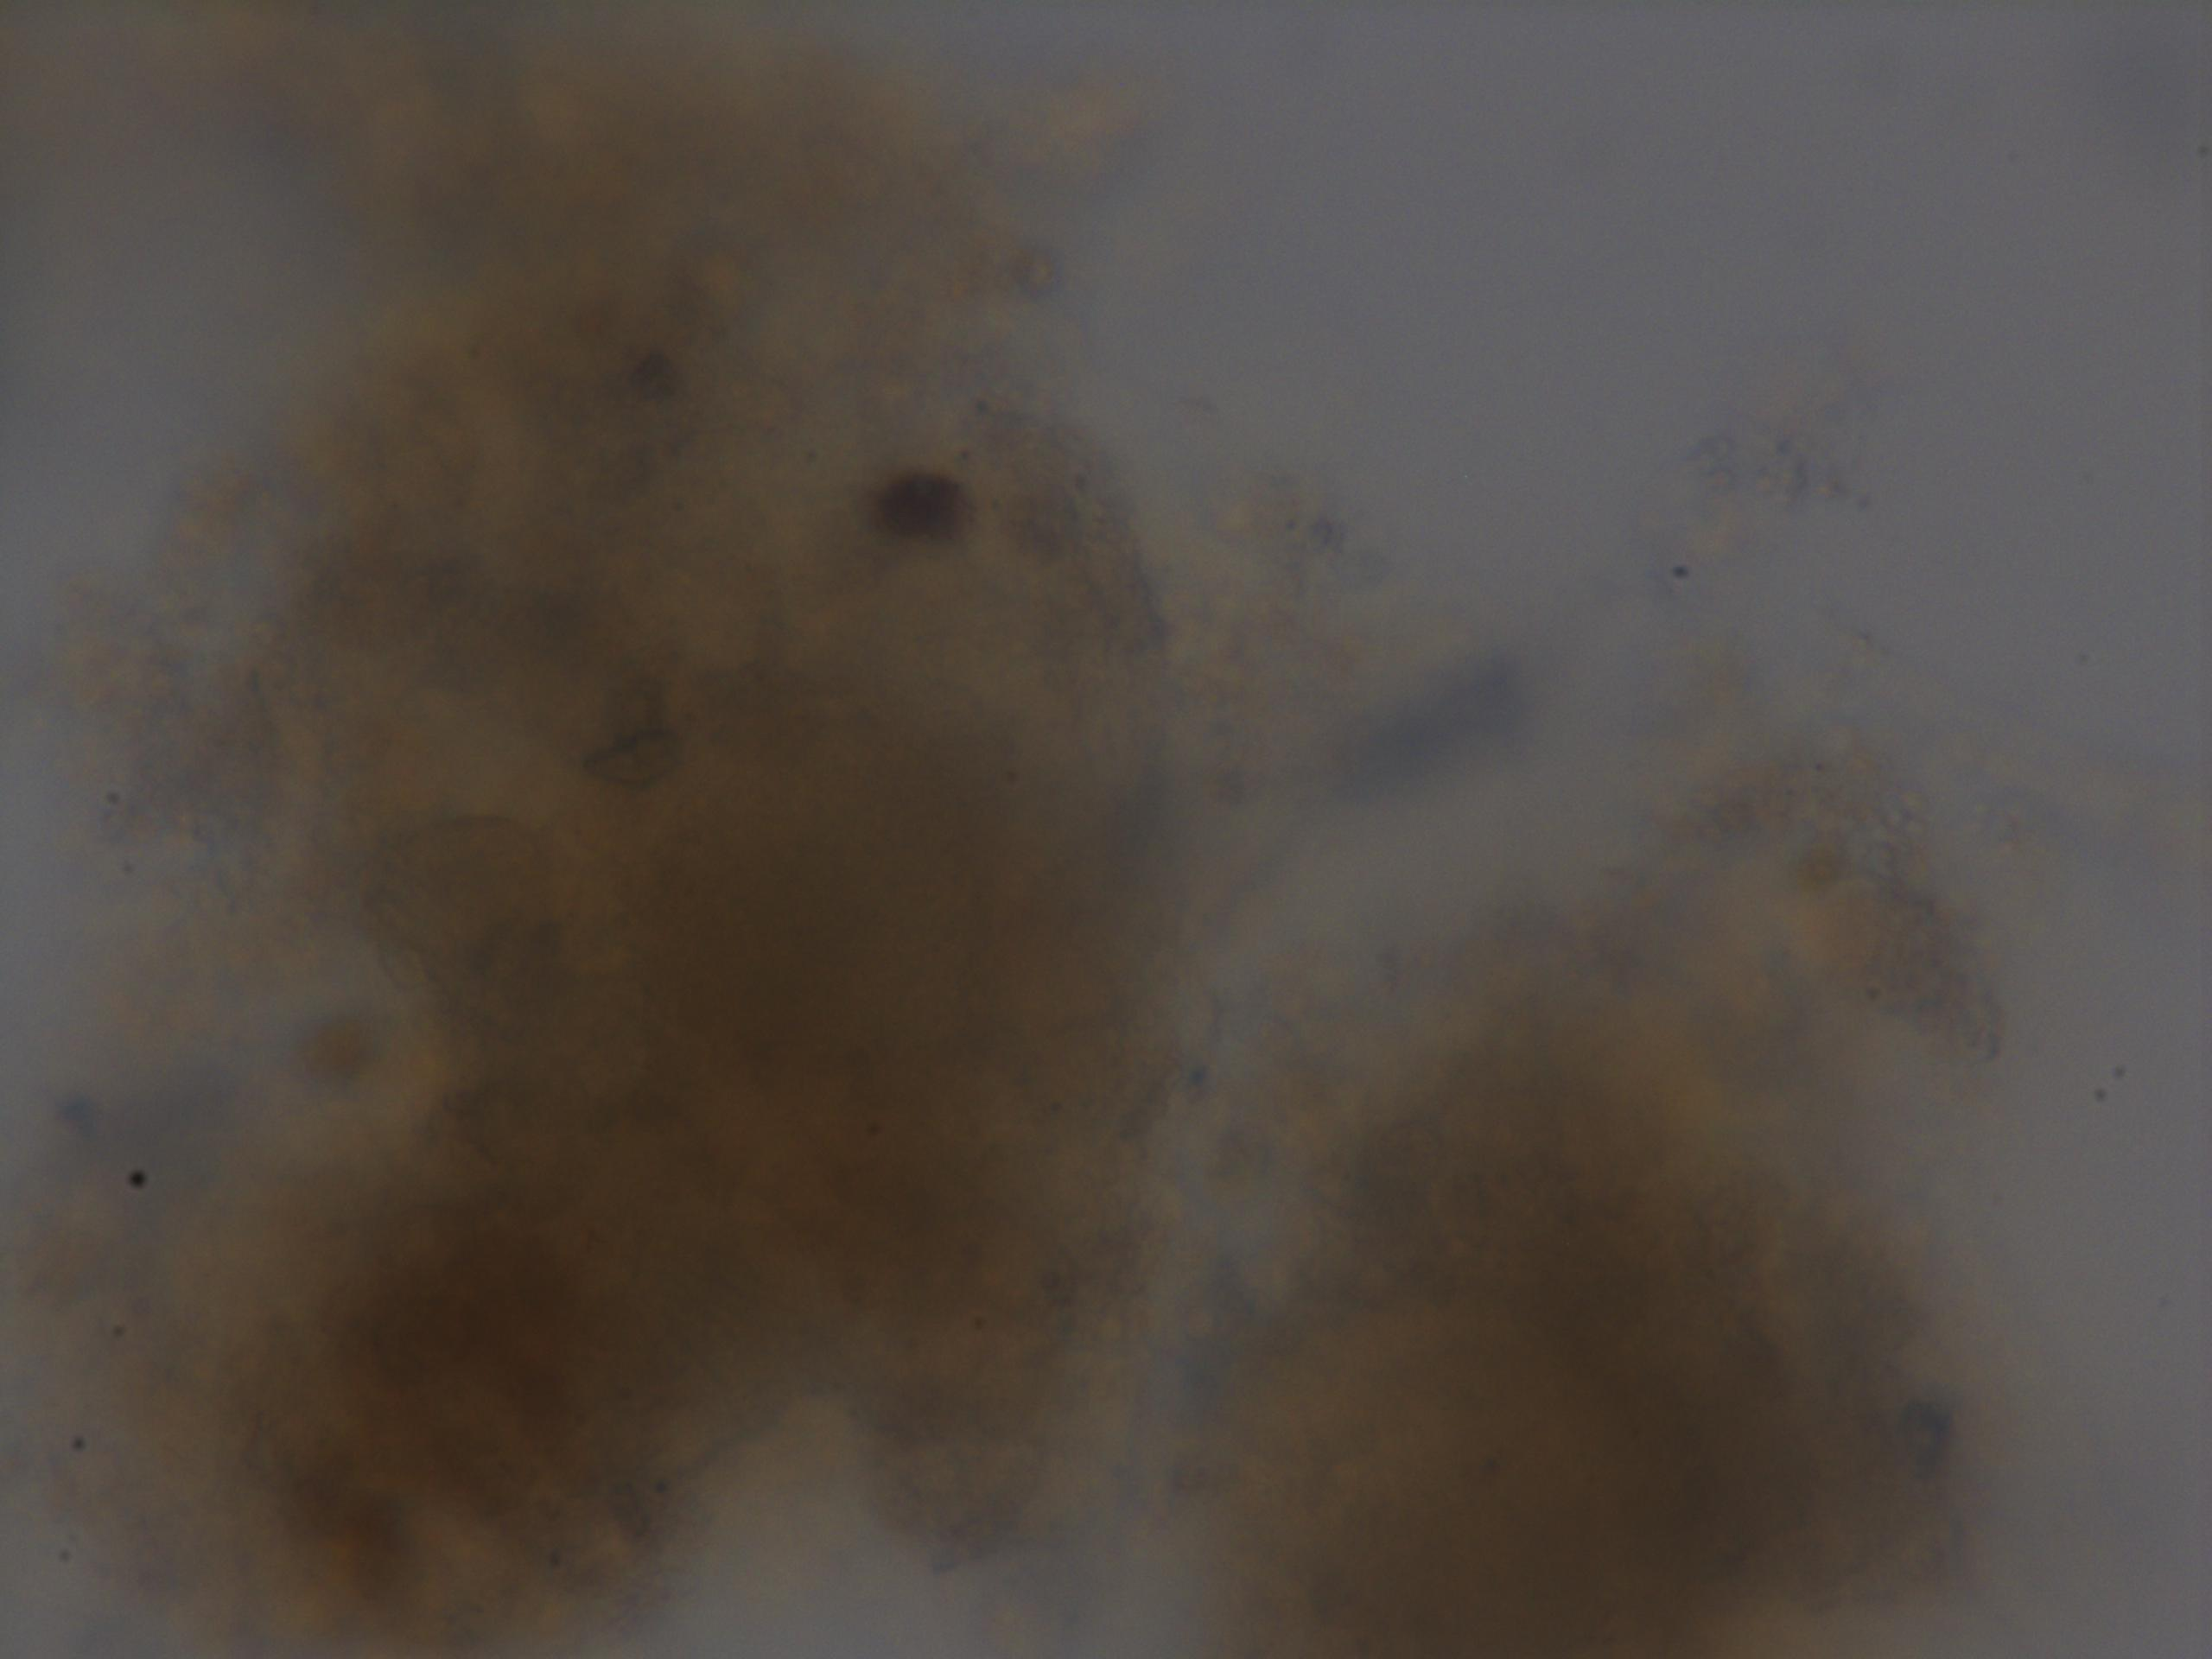spherical_floc: (96, 251, 1167, 1659), (1188, 997, 1975, 1659)
